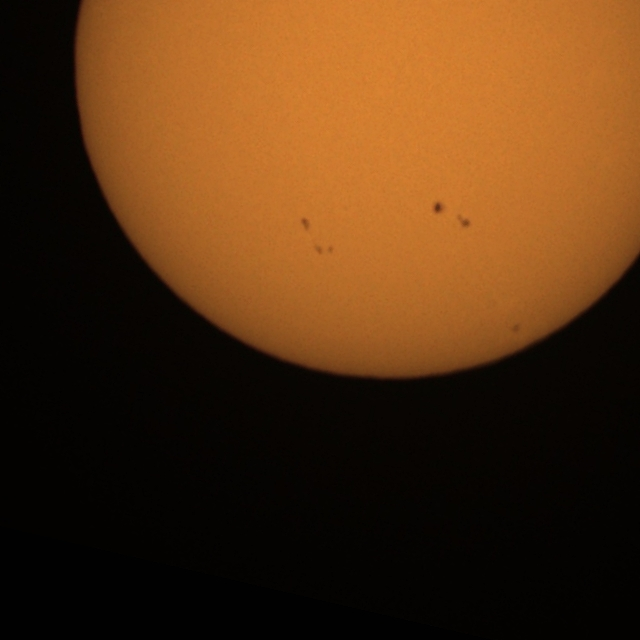sunspot: (432, 199, 473, 230), (455, 213, 472, 230), (314, 243, 334, 257), (432, 200, 446, 216), (299, 216, 311, 232), (510, 322, 522, 335)
